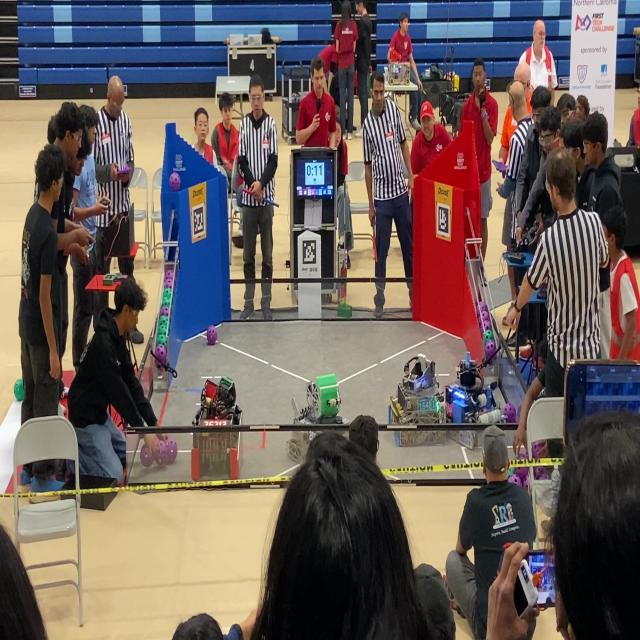artifact_green: (14, 379, 24, 401), (483, 330, 494, 344), (156, 334, 167, 347), (157, 325, 168, 334), (162, 296, 171, 307), (158, 326, 168, 335), (162, 289, 171, 299), (158, 315, 170, 322), (159, 317, 168, 326), (158, 326, 167, 335), (508, 467, 515, 477), (163, 288, 171, 296), (163, 288, 171, 295), (159, 316, 168, 322), (170, 299, 174, 309), (166, 323, 170, 333), (169, 301, 173, 310), (167, 301, 172, 307)
artifact_purple: (155, 440, 168, 466), (140, 444, 154, 467), (503, 402, 517, 424), (167, 437, 178, 464), (484, 341, 497, 363), (532, 440, 545, 459), (169, 172, 180, 191), (207, 325, 217, 345), (155, 344, 166, 362), (534, 467, 549, 480), (515, 467, 528, 480), (517, 446, 528, 459), (483, 330, 494, 343), (482, 317, 493, 330), (509, 475, 522, 486), (481, 322, 492, 333), (481, 323, 492, 333), (165, 270, 173, 283), (160, 306, 170, 316), (479, 302, 489, 312), (165, 270, 174, 281), (522, 475, 529, 489), (164, 278, 173, 288), (481, 310, 490, 320), (477, 313, 482, 329), (508, 466, 514, 477), (476, 302, 481, 313), (477, 306, 480, 323)
